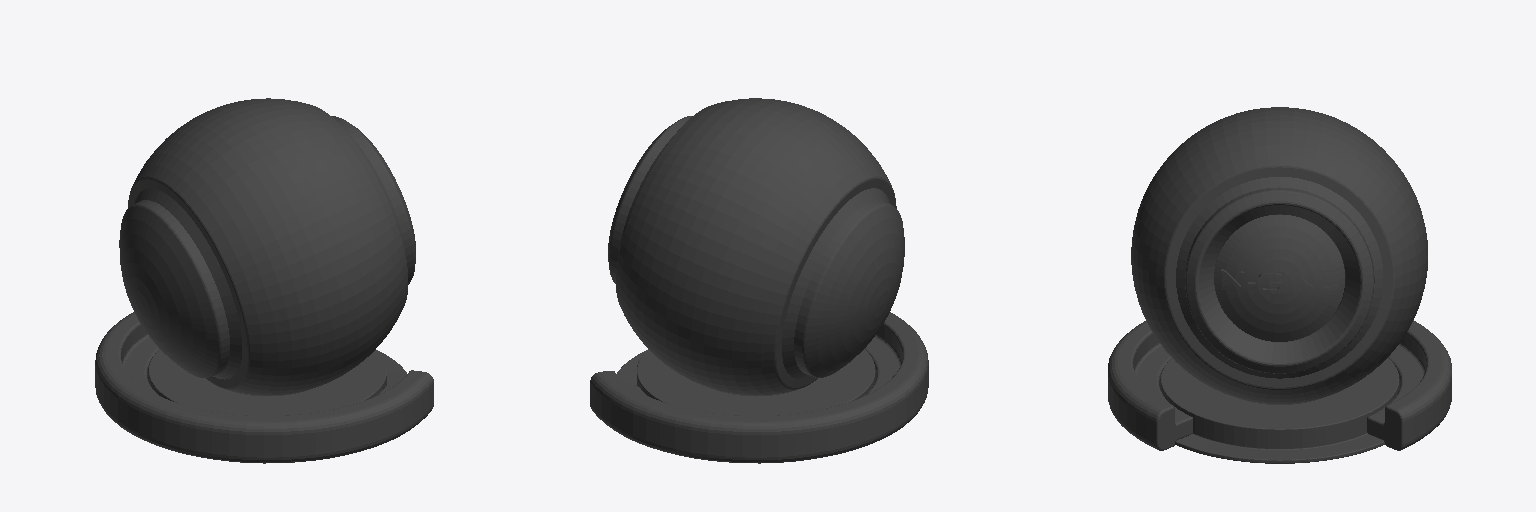
The model's file is JM_MaterialPreview_01_fixed.obj.
The picture shows the model from 3 angles: view 1: azimuth 30°, elevation 25°; view 2: azimuth 150°, elevation 25°; view 3: azimuth 270°, elevation 25°; orthographic projection.
Visible parts, largest first — view 1: Sphere.002_Sphere.001; view 2: Sphere.002_Sphere.001; view 3: Sphere.002_Sphere.001.
Boxes of the visible parts, box(x1,y1,x2,y2) form: Sphere.002_Sphere.001: box(95, 98, 433, 463); Sphere.002_Sphere.001: box(590, 98, 928, 463); Sphere.002_Sphere.001: box(1108, 107, 1451, 463).
Bounding box in the file's own units: 2.14 × 2.09 × 2.32.